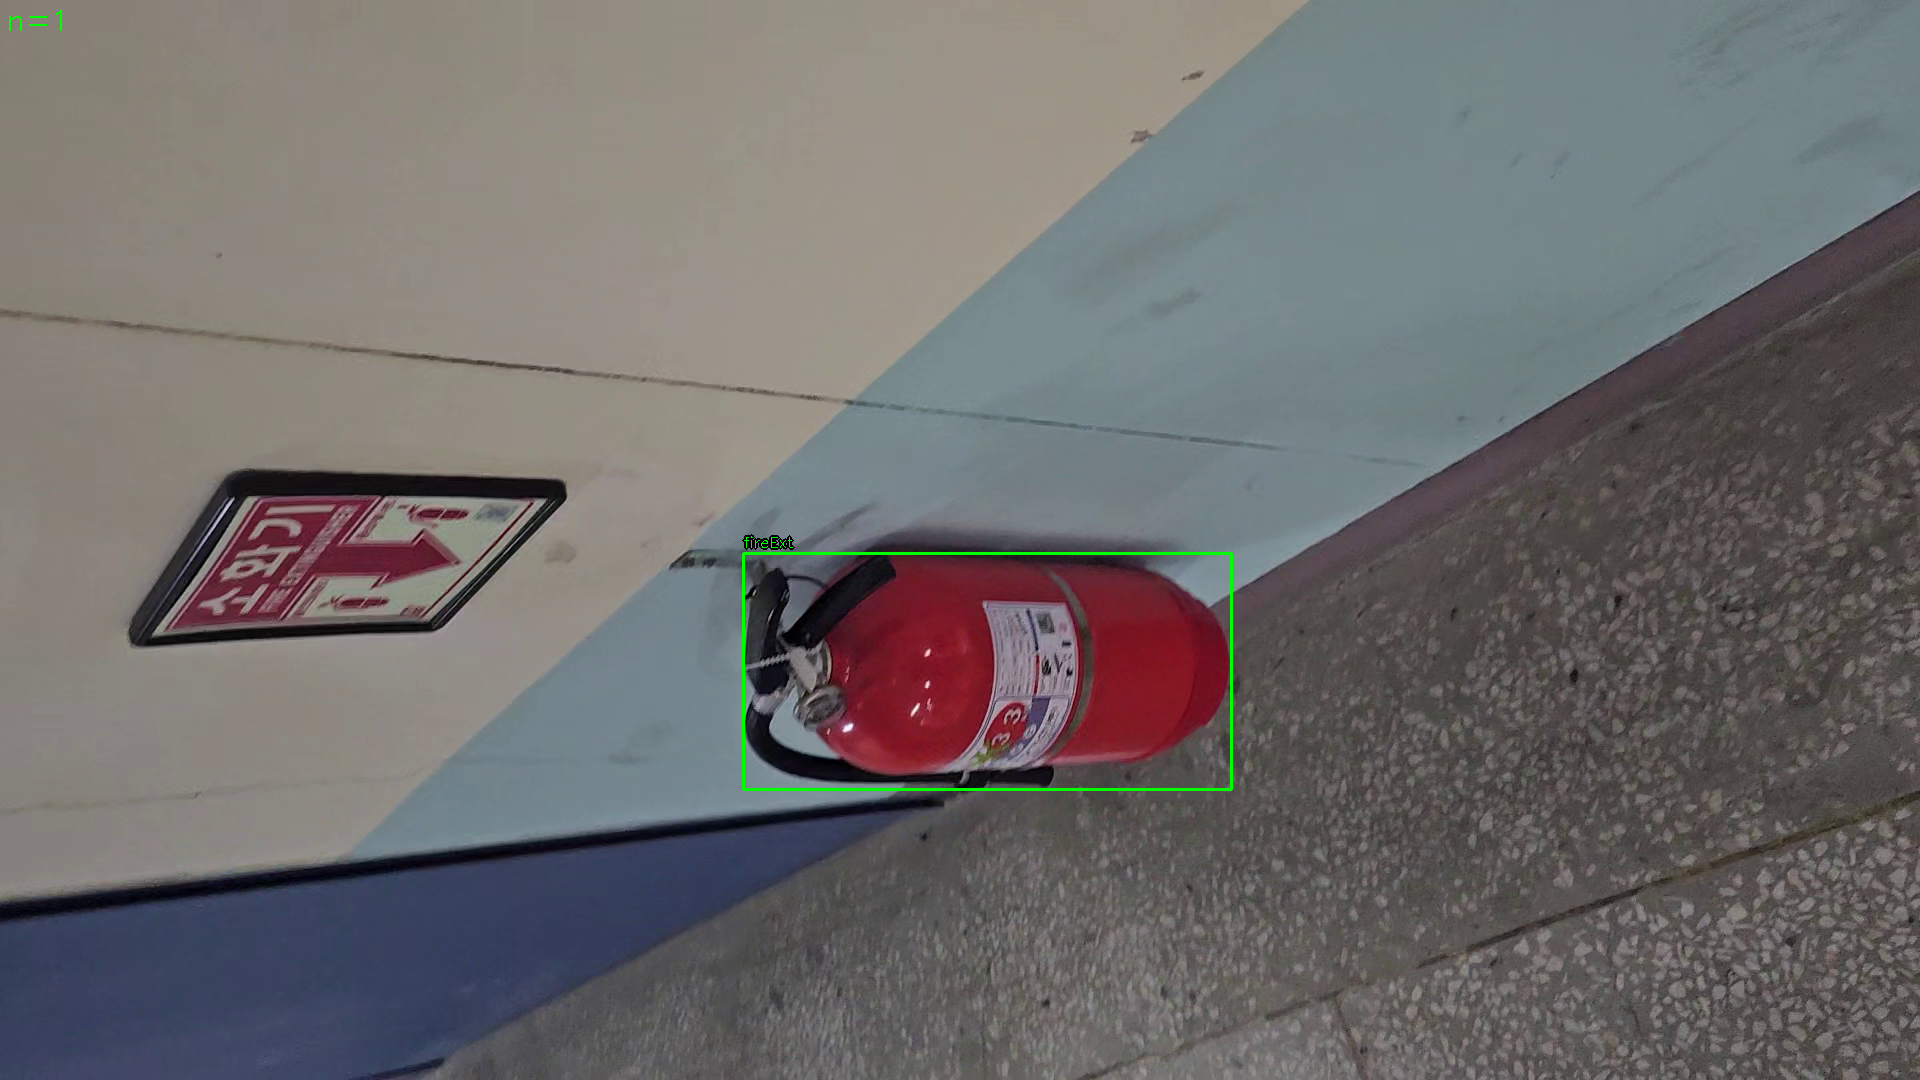lane: (742, 553, 1232, 790)
